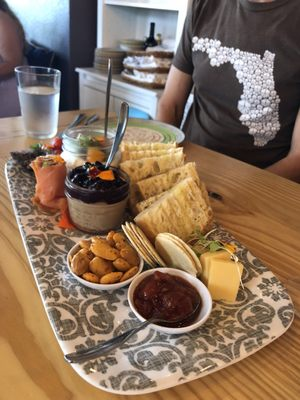pizza: (15, 65, 62, 139), (30, 155, 68, 214)
salad: (67, 267, 213, 363)
sushi: (65, 233, 142, 293)
